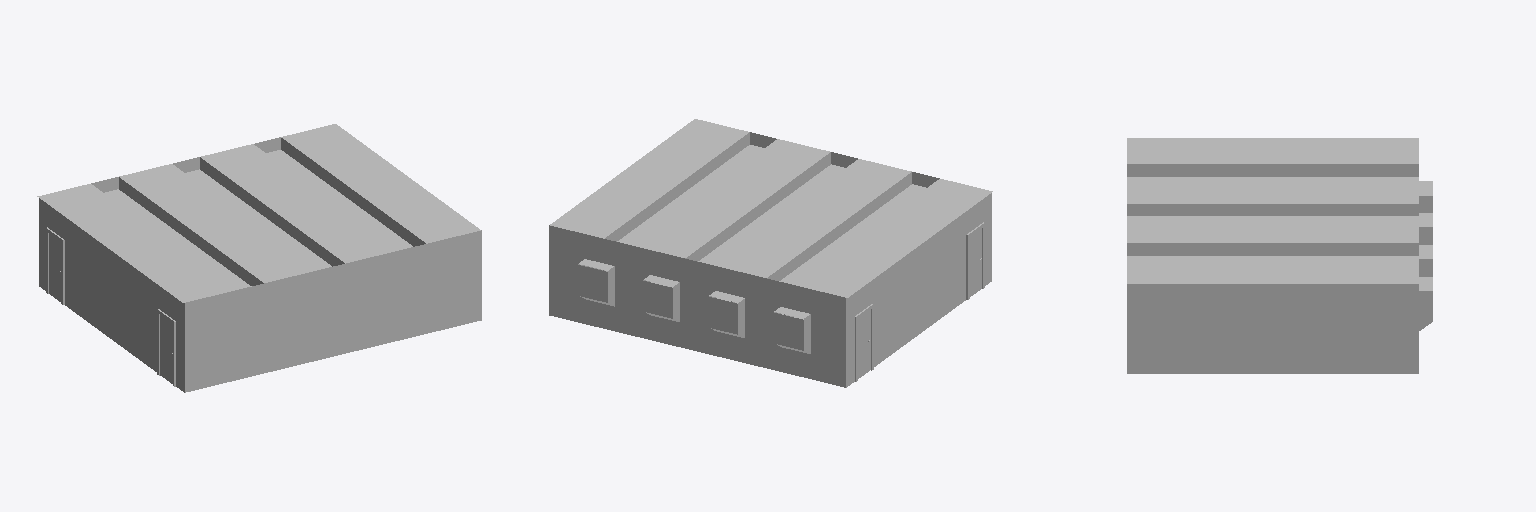
File: cba ruimte.obj
3 renders of one model, left to right at view 1: azimuth 30°, elevation 25°; view 2: azimuth 150°, elevation 25°; view 3: azimuth 270°, elevation 25°, orthographic.
Visible parts, largest first — view 1: ext_muur.002_Plane.1211, ext_muur.001_Plane.1210, ext_muur.004_Plane.003, ext_muur.006_Plane.005, ext_plafond.007_Plane.037, ext_plafond.003_Plane.032, ext_plafond.006_Plane.035, ext_plafond.005_Plane.034, ext_plafond.004_Plane.033, ext_plafond.002_Plane.031, ext_plafond.001_Plane.030, ext_plafond_Plane.029 (+10 smaller); view 2: ext_muur.013_Plane.011, ext_muur.007_Plane.006, ext_muur.004_Plane.003, ext_muur.006_Plane.005, ext_plafond.007_Plane.037, ext_plafond.006_Plane.035, ext_plafond.005_Plane.034, ext_plafond.003_Plane.032, ext_plafond_Plane.029, ext_plafond.004_Plane.033, ext_plafond.002_Plane.031, ext_plafond.001_Plane.030 (+19 smaller); view 3: ext_muur_Plane.1208, ext_plafond.012_Plane.042, ext_plafond.008_Plane.038, ext_plafond.010_Plane.040, ext_plafond.007_Plane.037, ext_plafond.006_Plane.035, ext_plafond.004_Plane.033, ext_plafond.003_Plane.032, ext_plafond_Plane.029, ext_plafond.005_Plane.034, ext_plafond.002_Plane.031, ext_plafond.001_Plane.030.
Boxes of the visible parts, x1,y1,x2,y2 form: ext_muur.002_Plane.1211: [185, 230, 481, 367]; ext_muur.001_Plane.1210: [185, 296, 481, 392]; ext_muur.004_Plane.003: [65, 241, 157, 371]; ext_muur.006_Plane.005: [39, 198, 184, 327]; ext_plafond.007_Plane.037: [319, 124, 480, 234]; ext_plafond.003_Plane.032: [155, 164, 316, 274]; ext_plafond.006_Plane.035: [281, 133, 443, 243]; ext_plafond.005_Plane.034: [236, 144, 398, 254]; ext_plafond.004_Plane.033: [201, 153, 361, 263]; ext_plafond.002_Plane.031: [119, 172, 280, 282]; ext_plafond.001_Plane.030: [74, 184, 235, 293]; ext_plafond_Plane.029: [37, 192, 199, 302]; ext_muur.013_Plane.011: [549, 225, 845, 321]; ext_muur.007_Plane.006: [549, 291, 845, 387]; ext_muur.004_Plane.003: [872, 235, 965, 366]; ext_muur.006_Plane.005: [846, 193, 991, 321]; ext_plafond.007_Plane.037: [550, 119, 711, 229]; ext_plafond.006_Plane.035: [587, 128, 748, 238]; ext_plafond.005_Plane.034: [632, 139, 794, 249]; ext_plafond.003_Plane.032: [714, 159, 875, 269]; ext_plafond_Plane.029: [830, 187, 992, 297]; ext_plafond.004_Plane.033: [669, 148, 829, 257]; ext_plafond.002_Plane.031: [749, 167, 911, 277]; ext_plafond.001_Plane.030: [795, 179, 956, 288]; ext_muur_Plane.1208: [1127, 284, 1418, 373]; ext_plafond.012_Plane.042: [1127, 243, 1418, 255]; ext_plafond.008_Plane.038: [1127, 164, 1418, 176]; ext_plafond.010_Plane.040: [1127, 204, 1418, 215]; ext_plafond.007_Plane.037: [1127, 275, 1418, 283]; ext_plafond.006_Plane.035: [1127, 257, 1418, 265]; ext_plafond.004_Plane.033: [1127, 217, 1418, 225]; ext_plafond.003_Plane.032: [1127, 195, 1418, 203]; ext_plafond_Plane.029: [1127, 138, 1418, 146]; ext_plafond.005_Plane.034: [1127, 235, 1418, 242]; ext_plafond.002_Plane.031: [1127, 178, 1418, 185]; ext_plafond.001_Plane.030: [1127, 156, 1418, 163].
Bounding box in the file's own units: 10.05 × 2.9 × 8.9.